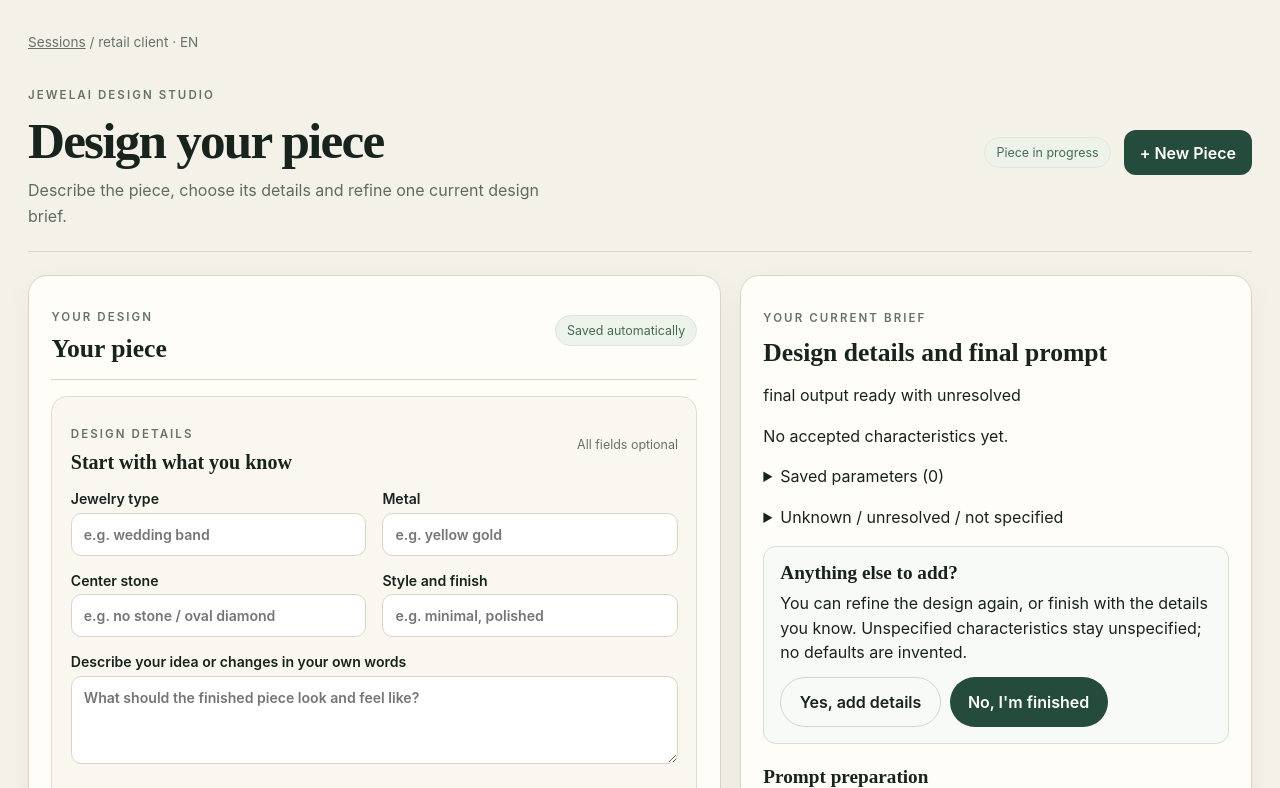
Test: Prompt Enrichment workspace › keeps the full prompt selectable when clipboard permission is denied
Click the button "No, I'm finished" at x=1029, y=702, box [950,677,1108,727]
(page scrolled)
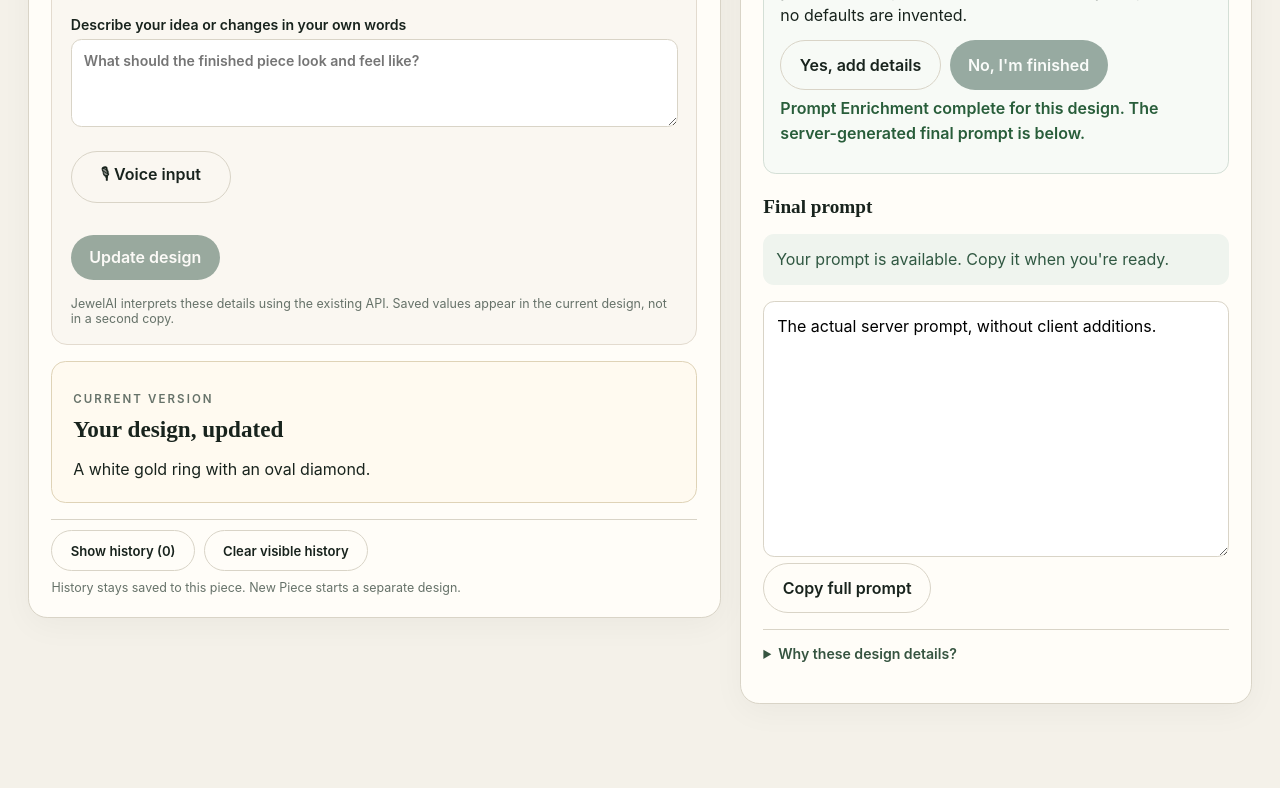
Click the button "Copy full prompt" at x=847, y=588, box [763,563,931,613]
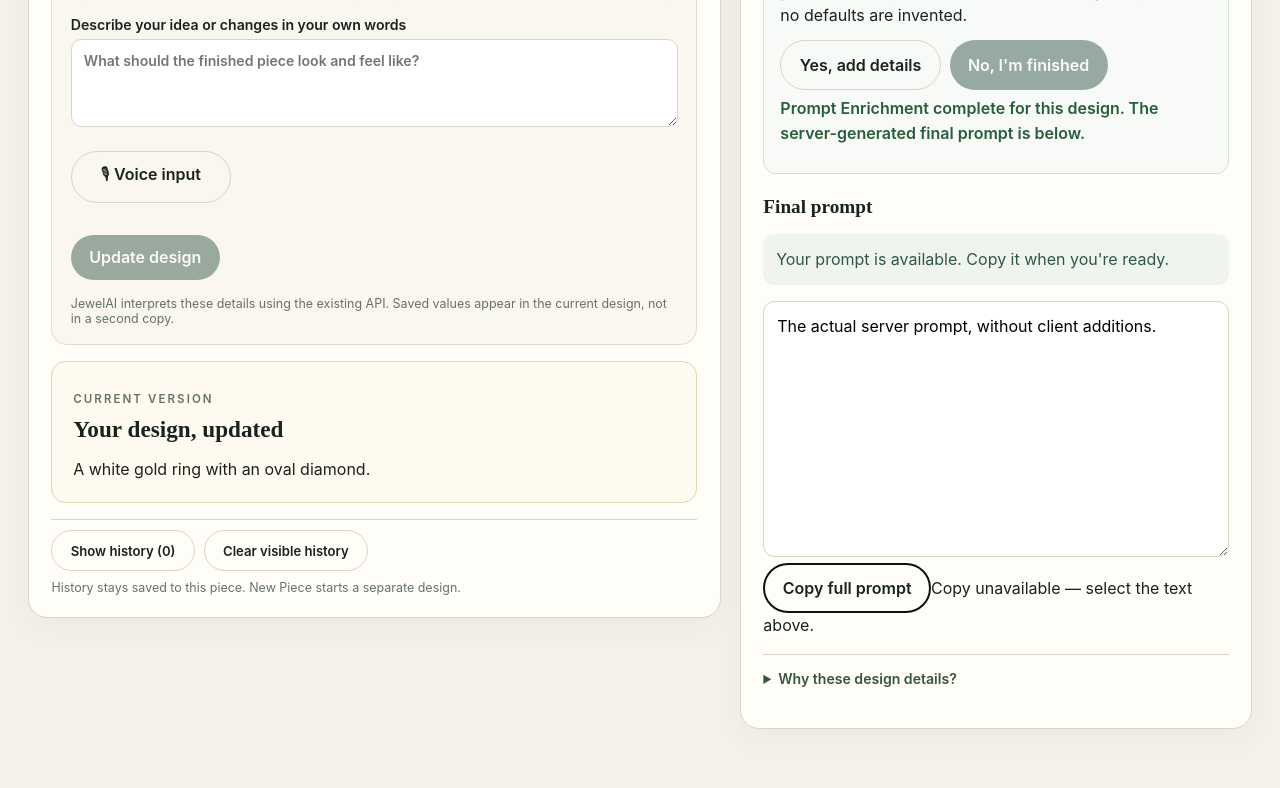
Now the text box named "Internal Final Prompt" holds "The actual server prompt, without client additions.", box [763,301,1229,557]
Now the text "Copy unavailable — select the text above." is shown, box [763,578,1192,635]
